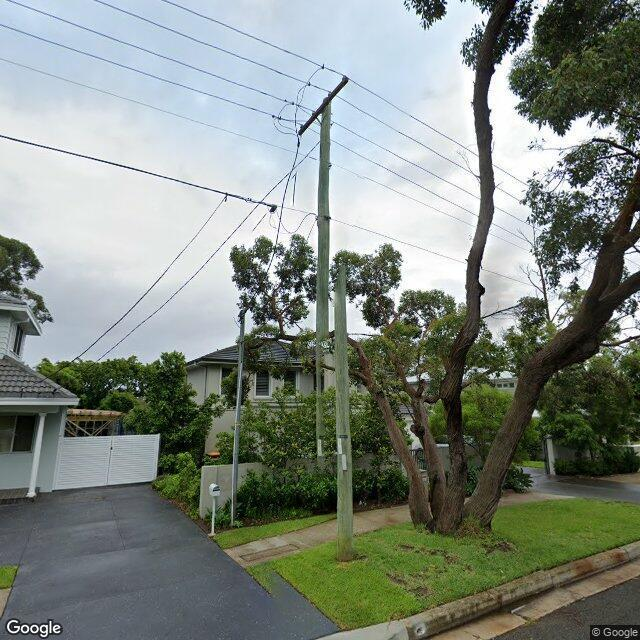crossarm: (298, 76, 349, 136)
steel-pole: (229, 308, 246, 525)
timber-pole: (319, 97, 356, 562)
